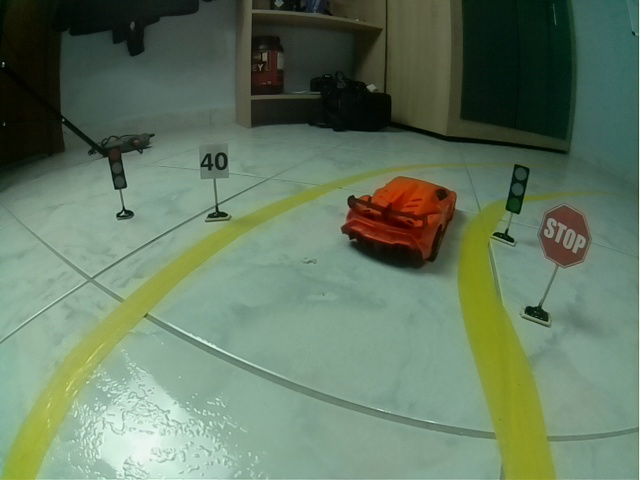Green Traffic Light: (505, 163, 531, 216), (105, 145, 128, 191)
Lambo: (340, 174, 457, 271)
Speed Limit 40: (198, 143, 230, 180)
Stop: (537, 203, 593, 270)
